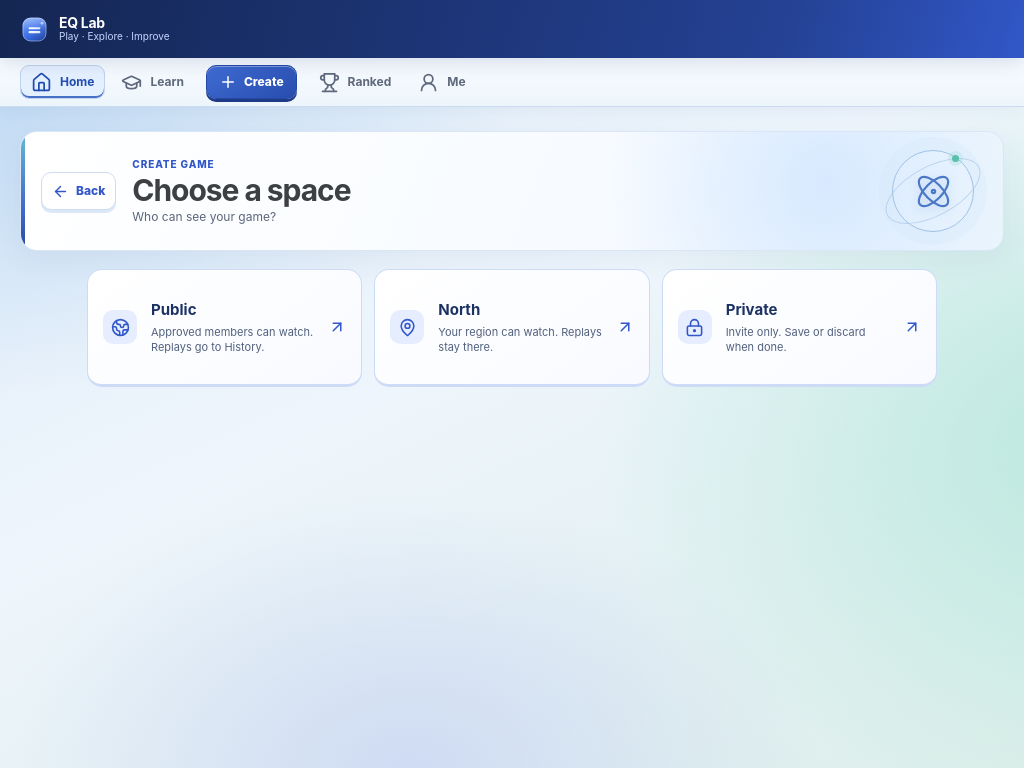
Test case: older Create addresses › keeps the vs Authur address working behind the space step
Expected: the heading "Choose a space" is shown, [132,173,350,208]
What coordinates should you click on to do the following:
click the button "Private Invite only. Save or discard when done."
I would click on:
 (799, 328)
Its box is [662,269,937,387].
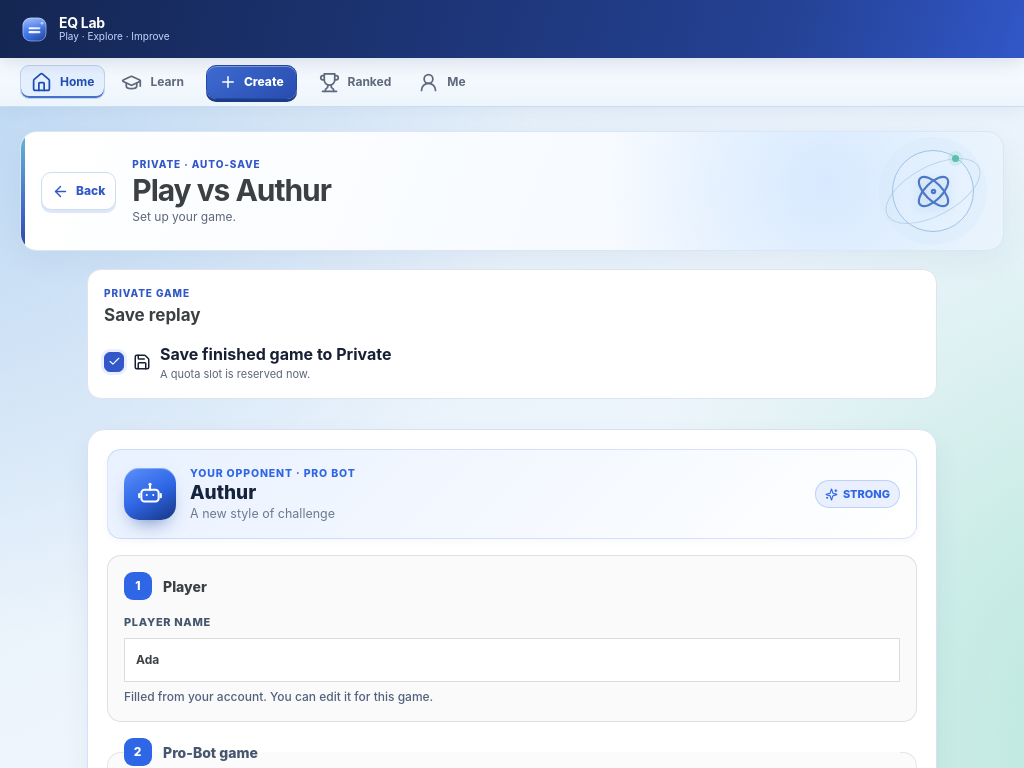
Now the heading "Play vs Authur" is shown, box [132,173,331,208]
